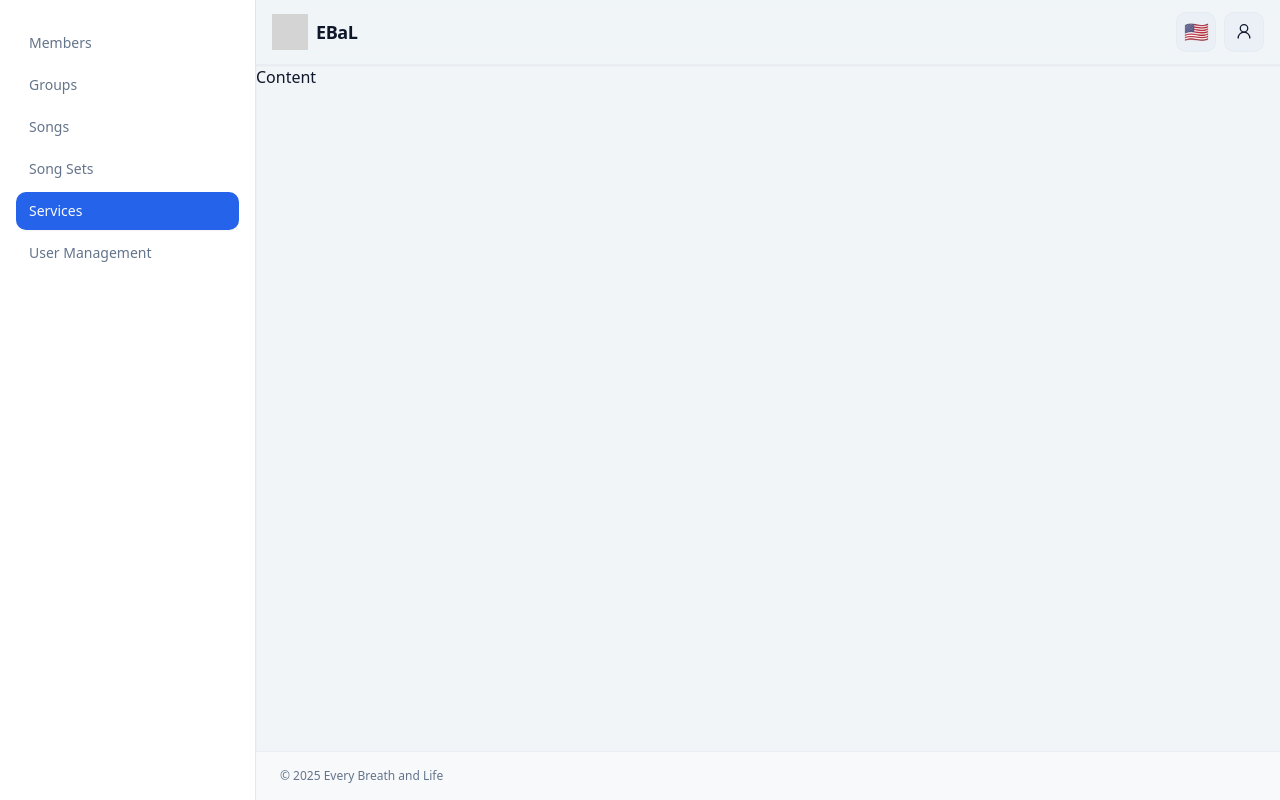
Test: AppShell › allows changing the language from the navigation controls
This screenshot has width=1280, height=800.
Click the button named "Change language".
click(1196, 32)  # box [1176,12,1216,52]
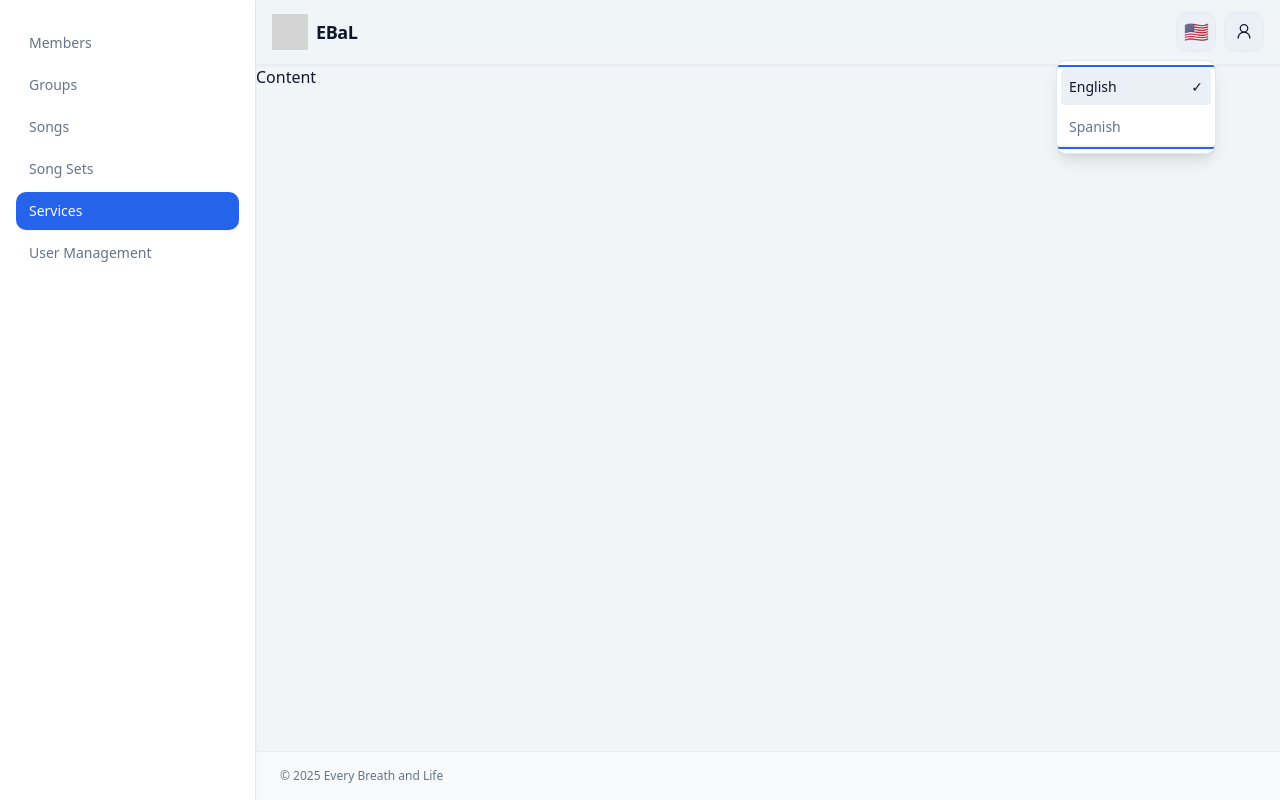
Click the option "Spanish".
click(1136, 127)  # box [1061,109,1211,145]
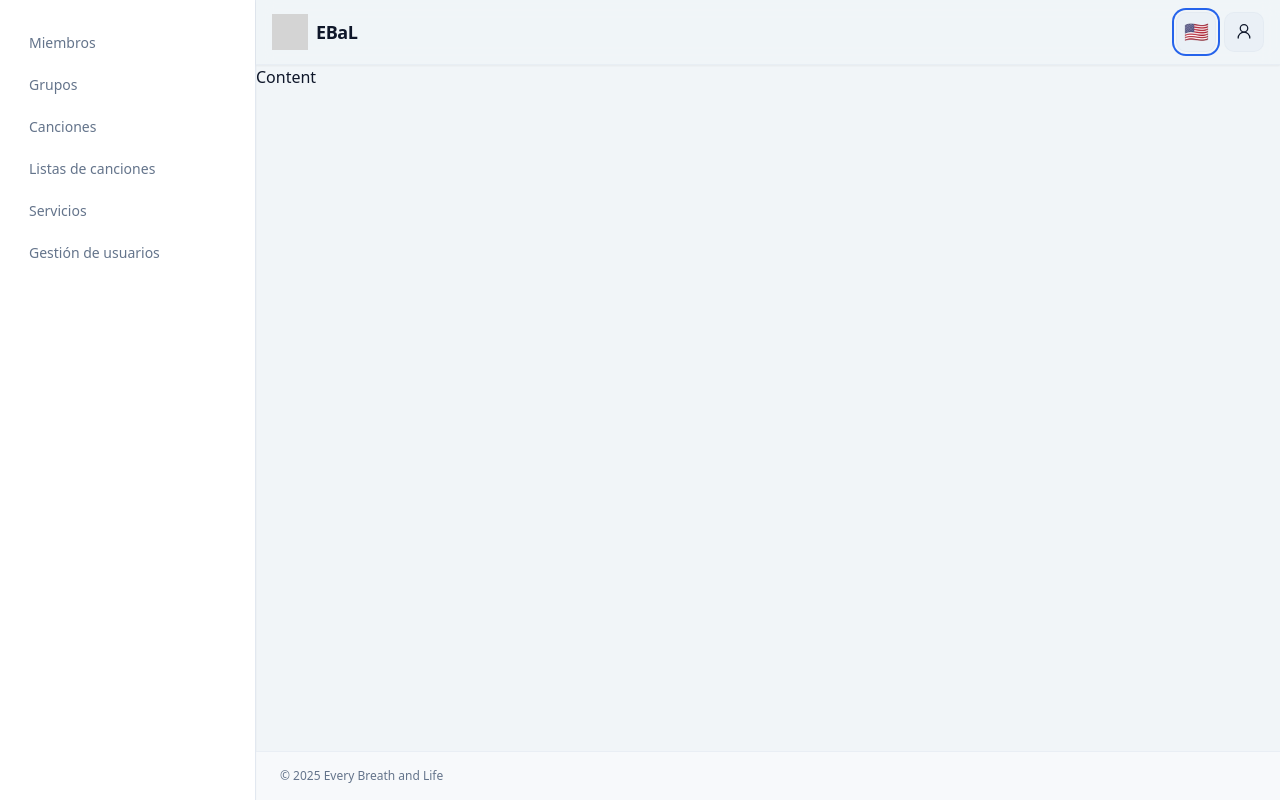
Now the link "Servicios" is shown, box [29,201,87,220]
